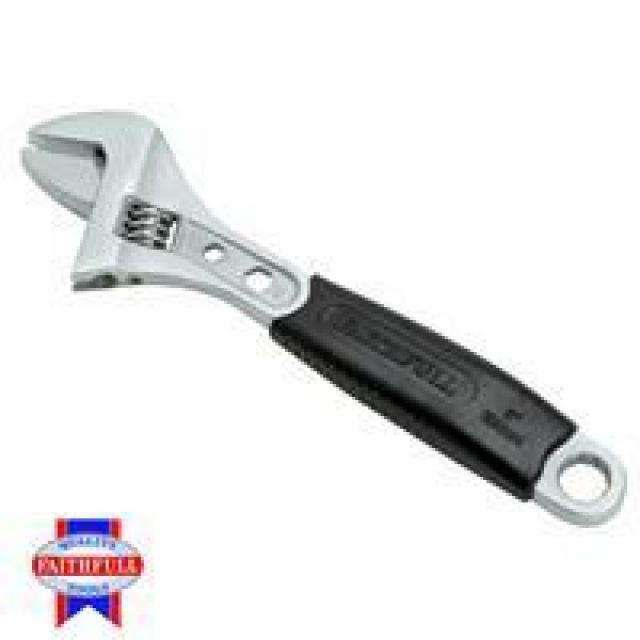wrench: (16, 104, 634, 540)
